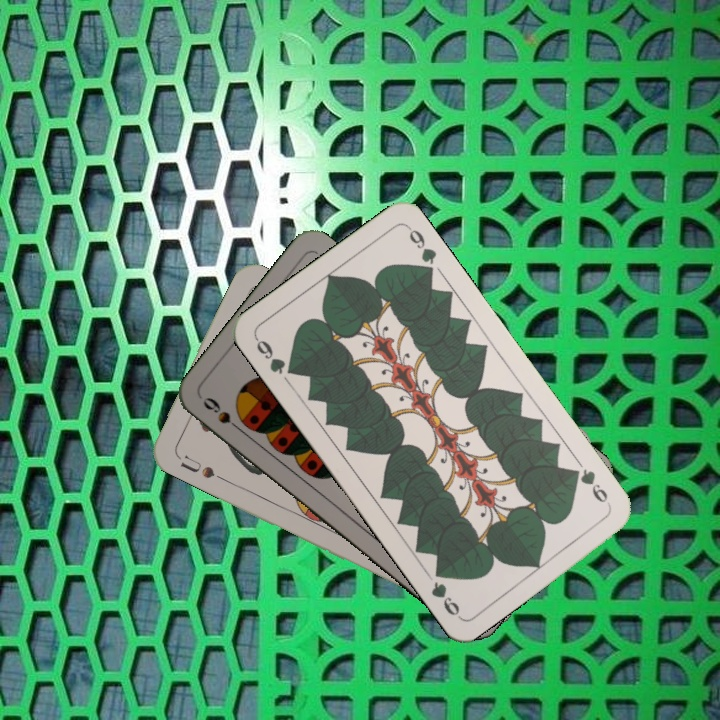G9: (251, 333, 299, 378), (566, 464, 611, 505)
S9: (198, 393, 248, 437)
SU: (176, 451, 218, 481)
